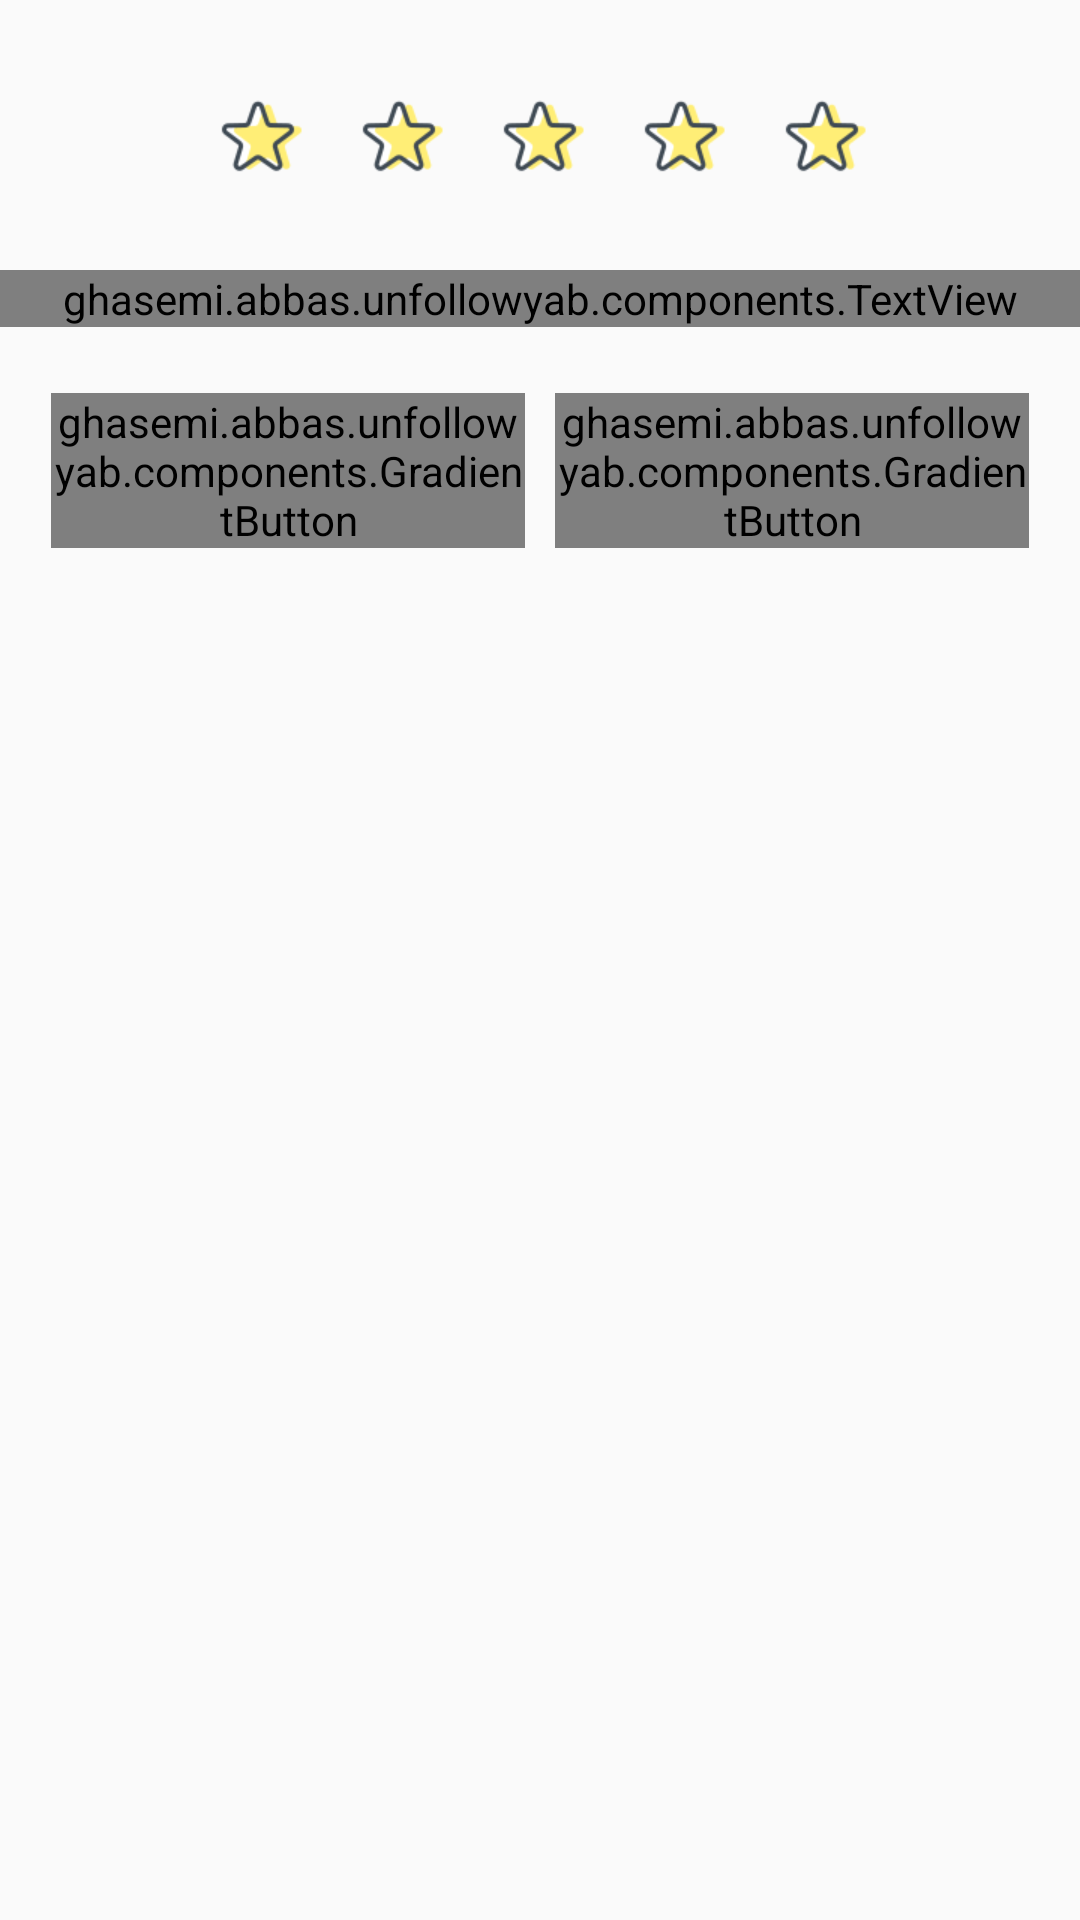

Screen size 1080*1920. Icon name, then its center in pixels as point (x, y):
star: point (261, 136), point (402, 136), point (543, 136), point (684, 136), point (825, 136)
